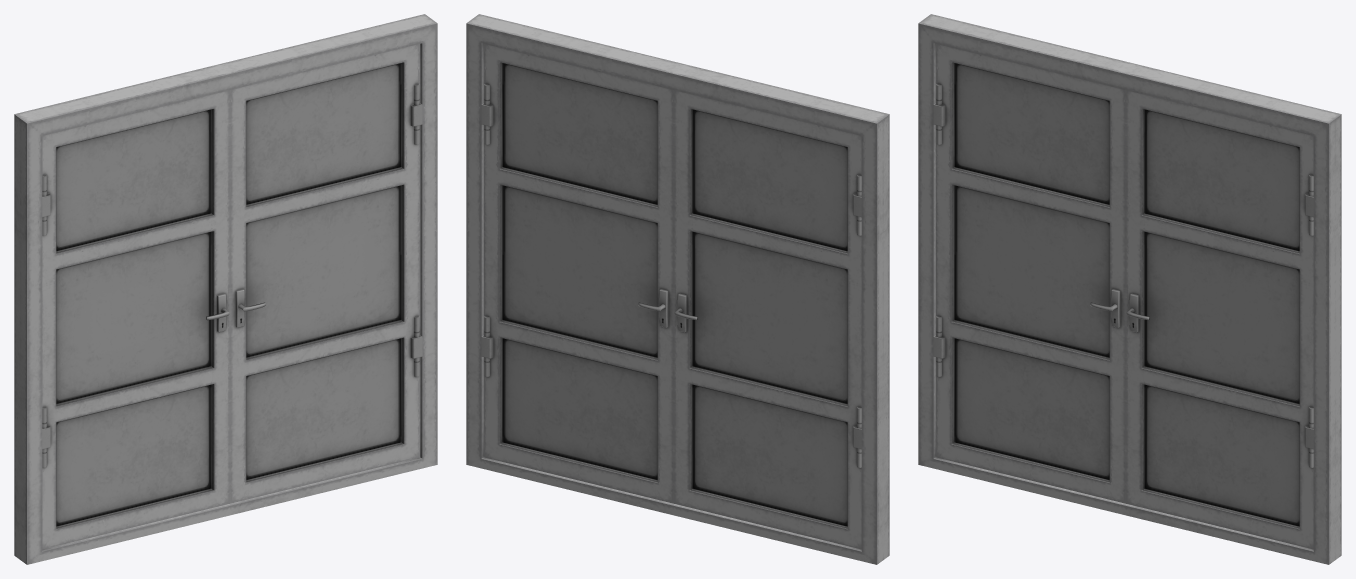
Rendered from Warehouse Office Door 4 B.fbx.
3 renders of one model, left to right at view 1: azimuth 30°, elevation 25°; view 2: azimuth 150°, elevation 25°; view 3: azimuth 330°, elevation 25°, orthographic.
Visible parts, largest first — view 1: WH_Office_Door_4_B_Base (×2), WH_Office_Door_4_B_Door_Frame; view 2: WH_Office_Door_4_B_Base (×2), WH_Office_Door_4_B_Door_Frame; view 3: WH_Office_Door_4_B_Base (×2), WH_Office_Door_4_B_Door_Frame.
Boxes of the visible parts, left/top/right/bottom form: WH_Office_Door_4_B_Base (×2): left=42, top=44, right=422, bottom=549; WH_Office_Door_4_B_Door_Frame: left=14, top=14, right=437, bottom=564; WH_Office_Door_4_B_Base (×2): left=481, top=44, right=861, bottom=549; WH_Office_Door_4_B_Door_Frame: left=466, top=14, right=889, bottom=564; WH_Office_Door_4_B_Base (×2): left=933, top=44, right=1313, bottom=549; WH_Office_Door_4_B_Door_Frame: left=918, top=14, right=1341, bottom=564.
Bounding box in the file's own units: 214 × 220 × 20.02.
